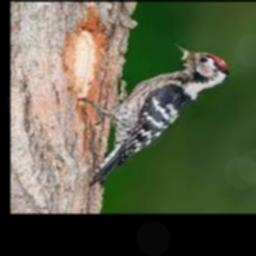Woodpecker: (79, 43, 230, 185)
